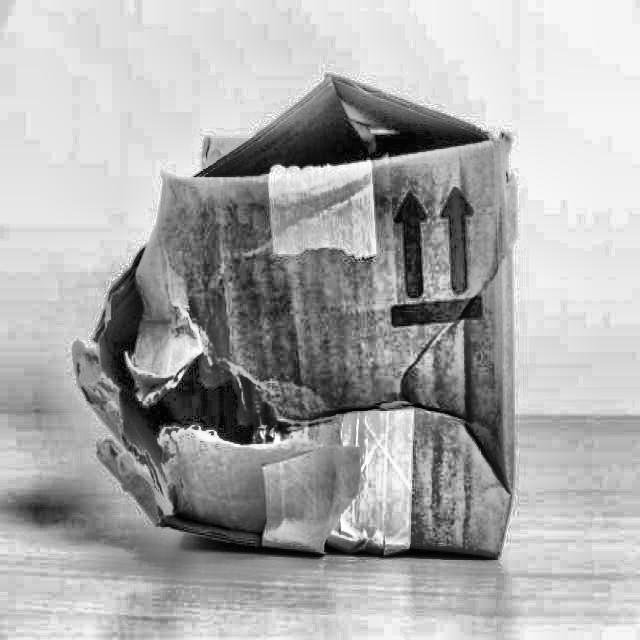box: (55, 50, 584, 573)
hole: (82, 271, 278, 507)
